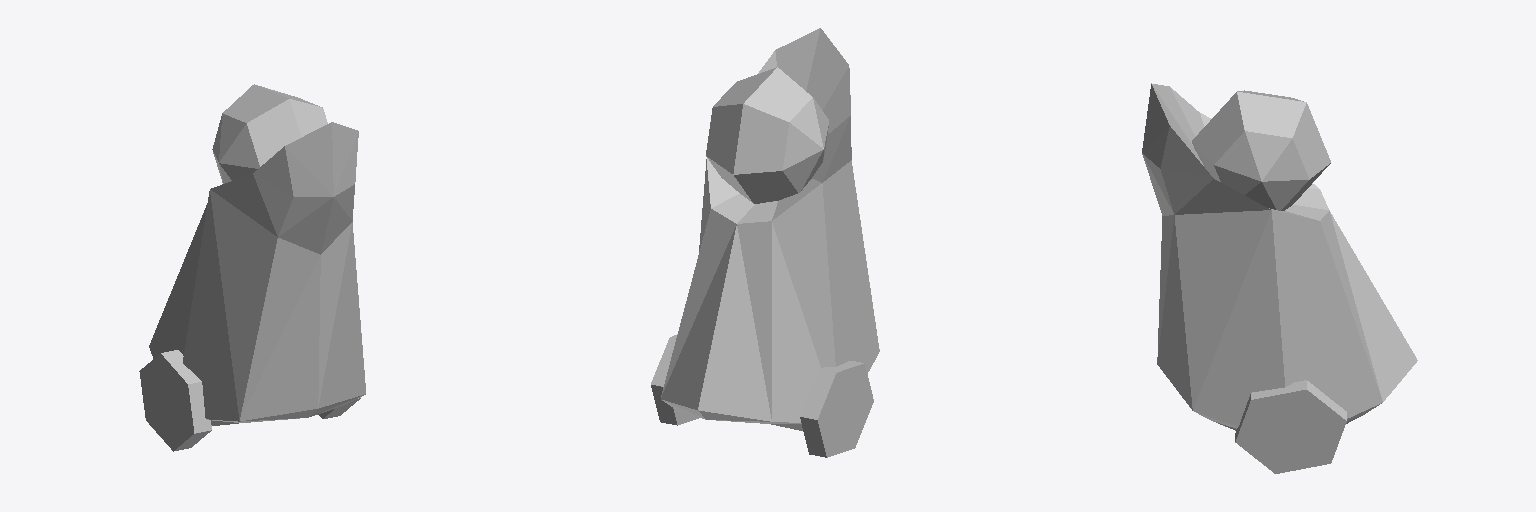
Rendered from buzzlightyRightCalf.obj.
The picture shows the model from 3 angles: view 1: azimuth 30°, elevation 25°; view 2: azimuth 150°, elevation 25°; view 3: azimuth 270°, elevation 25°; orthographic projection.
Parts seen in each view (by area): view 1: buzzlightyRightCalf_buzzlighty.026; view 2: buzzlightyRightCalf_buzzlighty.026; view 3: buzzlightyRightCalf_buzzlighty.026.
Boxes of the visible parts, x1,y1,x2,y2 form: buzzlightyRightCalf_buzzlighty.026: [139, 84, 365, 451]; buzzlightyRightCalf_buzzlighty.026: [651, 28, 879, 457]; buzzlightyRightCalf_buzzlighty.026: [1142, 83, 1417, 473].
Size of the model in its own units: 0.1133 by 0.2274 by 0.1597.